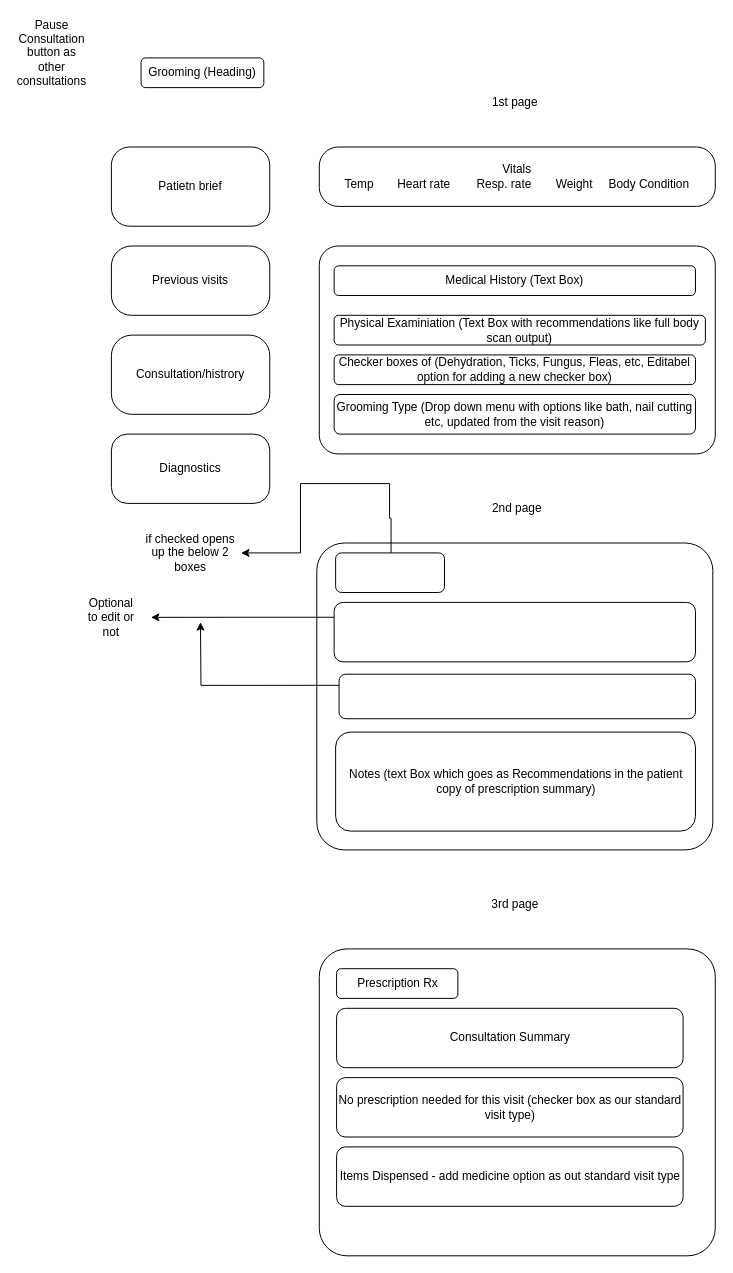
Some shapes in this 733 by 1273 pixel diagram are drawn without their labels. The shapes that lost their labels are listed below. From the top down, each one's centre as x and y in pixels, then its label:
At (x=390, y=572): "Vet con (Checker box)".
At (x=514, y=631): "Vet Consultation (Treatment plan text box)".
At (x=516, y=696): "Administered Medication (Text box)".
